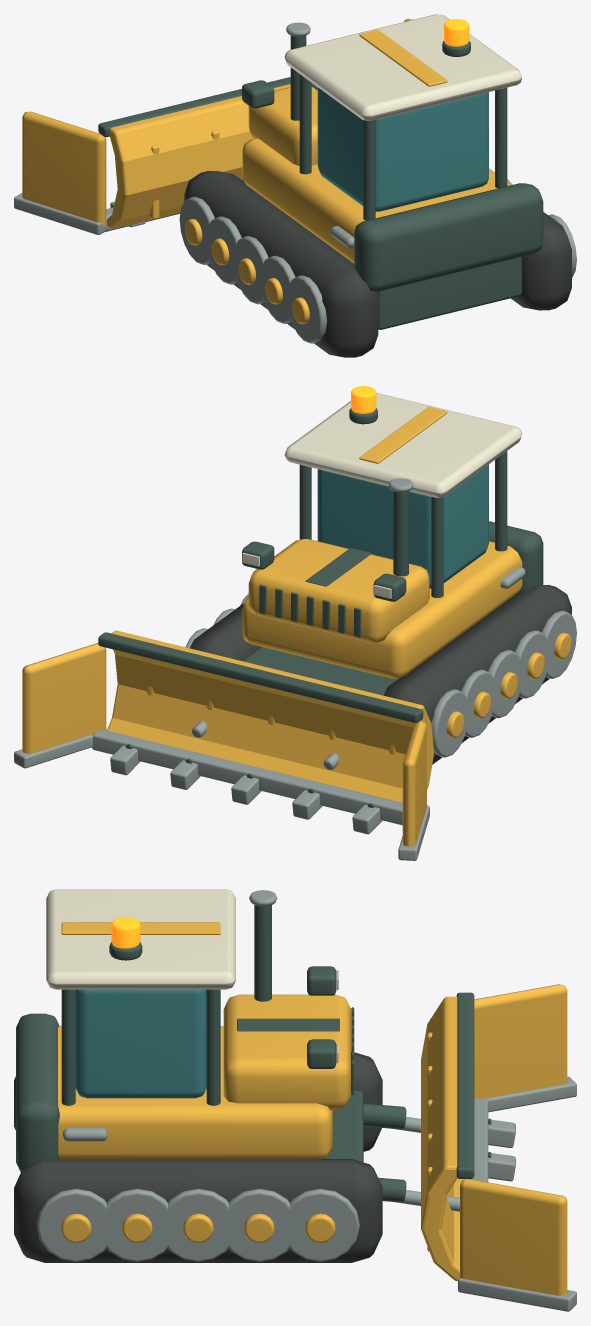
Rendered from gilt-dozer.glb.
3 renders of one model, top to bottom at view 1: azimuth 30°, elevation 25°; view 2: azimuth 150°, elevation 25°; view 3: azimuth 270°, elevation 25°, orthographic. The views are drawn at different scales.
Parts seen in each view (by area): view 1: Cab glazing, Rear counterweight, Floating canopy, Rolled concave blade, Track belt, Funnel wing, Lower body, Armoured belly, Track belt.001, Engine hood, Road wheel, Canopy stripe (+12 smaller); view 2: Rolled concave blade, Floating canopy, Lower body, Cab glazing, Engine hood, Track belt, Funnel wing.001, Replaceable cutting edge, Blade top rail, Armoured belly, Funnel wing, Track belt.001 (+21 smaller); view 3: Track belt.001, Floating canopy, Lower body, Cab glazing, Engine hood, Funnel wing.001, Funnel wing, Rolled concave blade, Rear counterweight, Road wheel.005, Road wheel.009, Road wheel.007 (+26 smaller).
Boxes of the visible parts, box(x1,y1,x2,y2) form: Cab glazing: box(317, 87, 488, 211); Rear counterweight: box(354, 183, 543, 291); Floating canopy: box(284, 14, 521, 120); Rolled concave blade: box(107, 84, 290, 228); Track belt: box(184, 171, 378, 357); Funnel wing: box(22, 111, 106, 227); Lower body: box(242, 138, 511, 263); Armoured belly: box(242, 179, 521, 329); Track belt.001: box(511, 212, 571, 310); Engine hood: box(248, 86, 317, 165); Road wheel: box(287, 275, 326, 343); Canopy stripe: box(359, 29, 447, 86); Rolled concave blade: box(107, 630, 434, 802); Floating canopy: box(284, 392, 521, 497); Lower body: box(242, 541, 522, 678); Cab glazing: box(317, 464, 488, 588); Engine hood: box(248, 539, 429, 642); Track belt: box(383, 585, 571, 764); Funnel wing.001: box(22, 643, 106, 753); Replaceable cutting edge: box(92, 730, 402, 825); Blade top rail: box(98, 632, 423, 722); Armoured belly: box(242, 647, 398, 695); Funnel wing: box(402, 721, 426, 846); Track belt.001: box(190, 603, 260, 660); Track belt.001: box(14, 1159, 382, 1262); Floating canopy: box(46, 889, 235, 989); Lower body: box(58, 1026, 332, 1159); Cab glazing: box(75, 989, 206, 1098); Engine hood: box(223, 994, 350, 1109); Funnel wing.001: box(460, 1179, 567, 1295); Funnel wing: box(474, 984, 567, 1099); Rolled concave blade: box(421, 996, 466, 1280); Rear counterweight: box(16, 1013, 59, 1171); Road wheel.005: box(37, 1188, 112, 1261); Road wheel.009: box(284, 1188, 359, 1261); Road wheel.007: box(162, 1188, 234, 1261).
Bounding box in the file's own units: 4.16 × 2.82 × 4.43.
